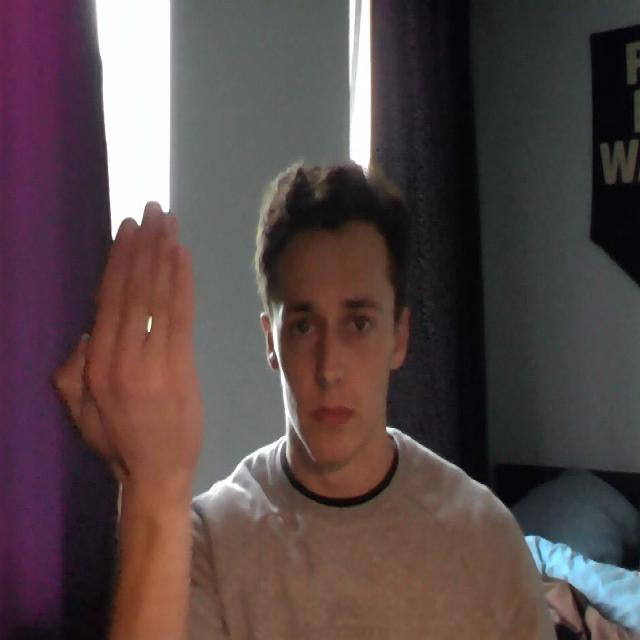forward: (46, 194, 220, 490)
